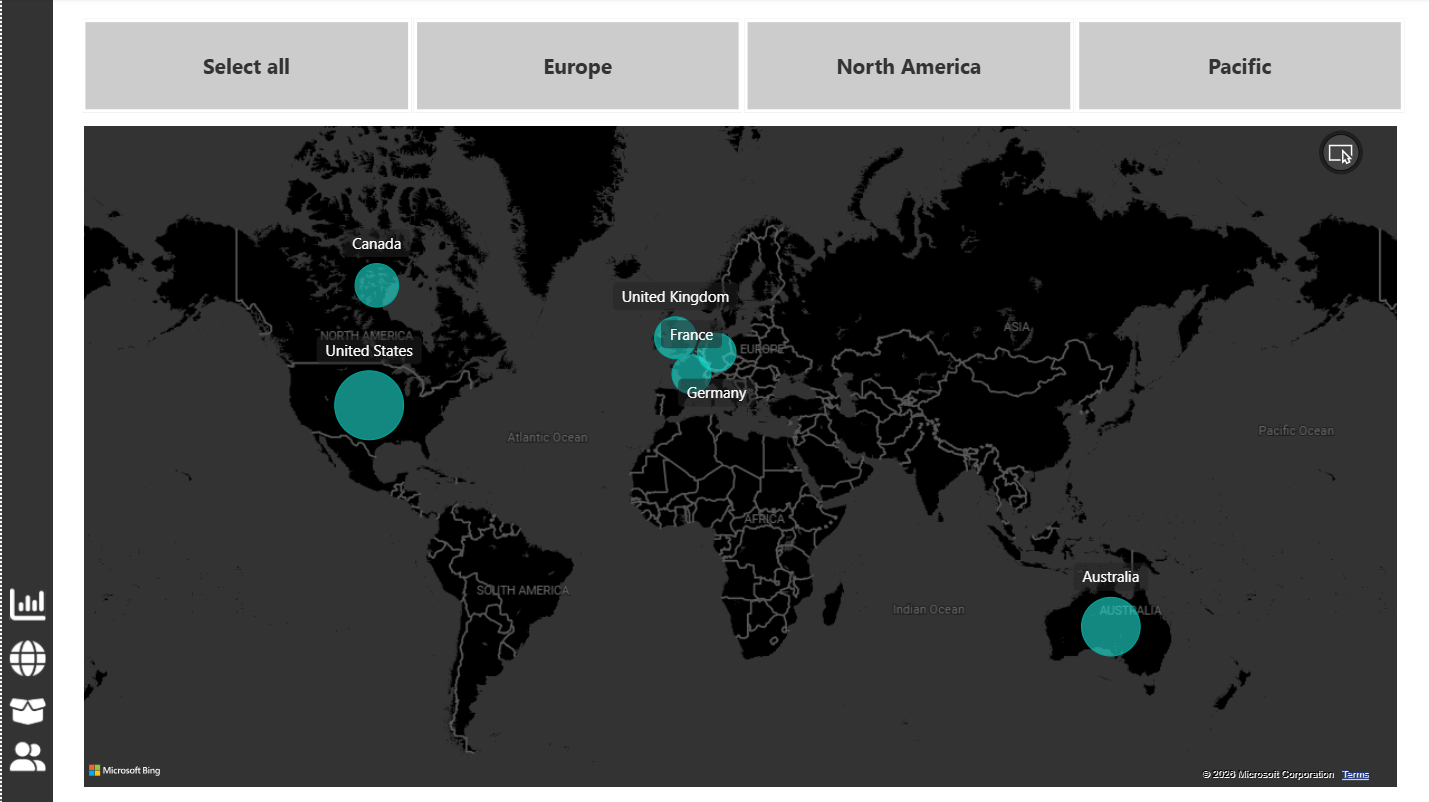

What the dashboard file says about the page in this screenshot:
{"tool":"powerbi","page":{"name":"Map","canvas":[1280,720],"ordinal":1},"visuals":[{"type":"shape","box":[0,0,45.7,720],"z":0},{"type":"actionButton","box":[0,523,45.7,40.3],"z":0,"group":"g1"},{"type":"map","fields":{"Category":["Territory Lookup.Country"],"Size":["Measure Table.Total Orders"]},"box":[68.1,109.3,1185.7,601.8],"z":1000},{"type":"actionButton","box":[0,571.1,45.7,40.3],"z":1000,"group":"g1"},{"type":"slicer","fields":{"Values":["Territory Lookup.Continent"]},"box":[45.7,11.6,1234,97.6],"z":2000},{"type":"actionButton","box":[0,619.1,45.7,40.3],"z":2000,"group":"g1"},{"type":"group","id":"g1","title":"Navigation Buttons","box":[0,523,45.7,176.4],"z":3000},{"type":"actionButton","box":[0,659.1,45.7,40.3],"z":3000,"group":"g1"}]}

Visuals, with their boxes in screenshot pixels (x1, y1, x2, y2):
shape: (left=0, top=4, right=50, bottom=796)
actionButton: (left=0, top=580, right=50, bottom=624)
map - Territory Lookup.Country x Measure Table.Total Orders: (left=75, top=124, right=1380, bottom=787)
actionButton: (left=0, top=632, right=50, bottom=677)
slicer - Territory Lookup.Continent: (left=50, top=16, right=1409, bottom=124)
actionButton: (left=0, top=685, right=50, bottom=730)
"Navigation Buttons" group: (left=0, top=580, right=50, bottom=774)
actionButton: (left=0, top=729, right=50, bottom=774)
